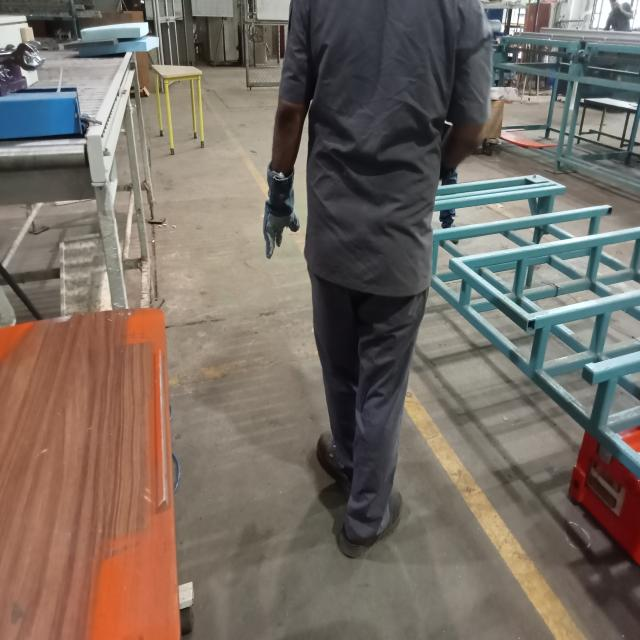Gloves-Detection: (261, 162, 298, 264)
